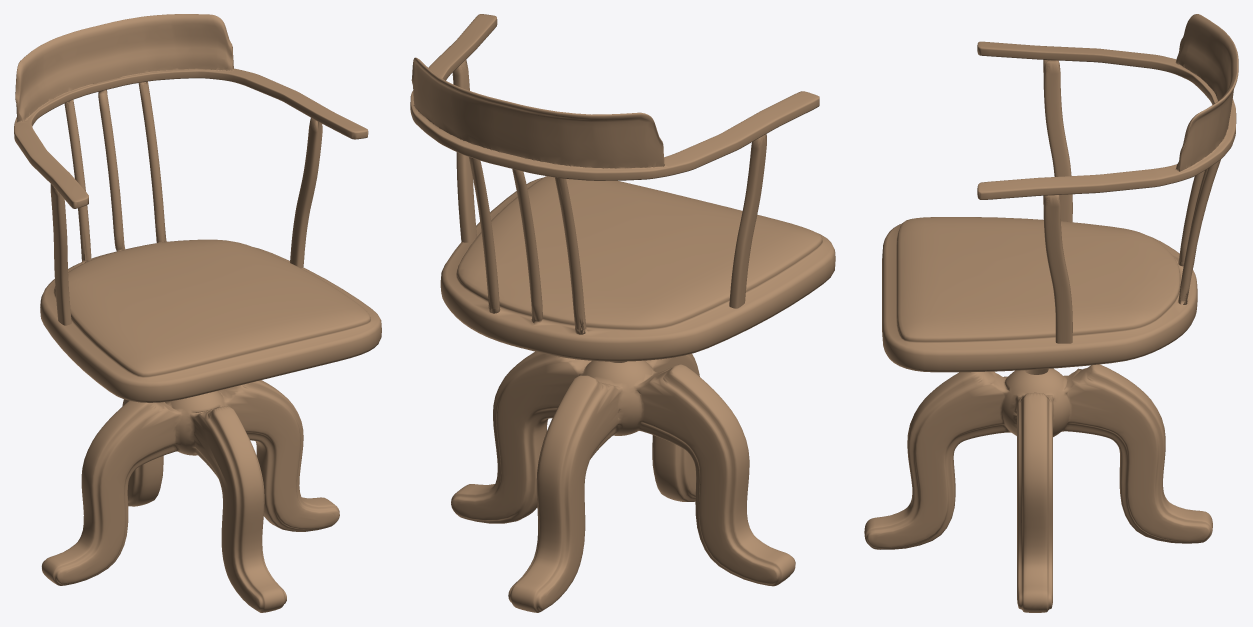
Rendered from SillaGiratoria.fbx.
The picture shows the model from 3 angles, left to right: view 1: azimuth 30°, elevation 25°; view 2: azimuth 150°, elevation 25°; view 3: azimuth 270°, elevation 25°; orthographic projection. The views are drawn at different scales.
Parts seen in each view (by area): view 1: SillaGiratoria; view 2: SillaGiratoria; view 3: SillaGiratoria.
Part boxes in pixels (x1,y1,x2,y2): SillaGiratoria: (14,14,381,612); SillaGiratoria: (410,14,835,612); SillaGiratoria: (864,14,1238,612).
Bounding box in the file's own units: 0.6717 × 1 × 0.7025.
